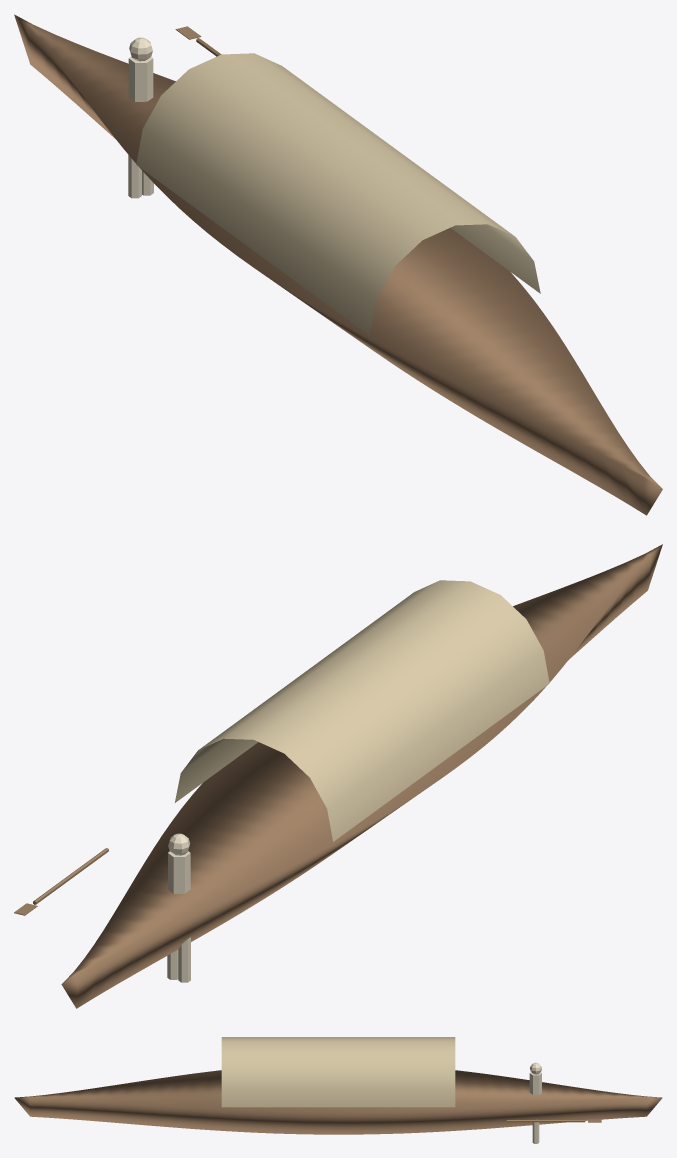
The model's file is hodi-boatman.glb.
3 views of the same model, one above another, from view 1: azimuth 30°, elevation 25°; view 2: azimuth 150°, elevation 25°; view 3: azimuth 270°, elevation 25° (orthographic). The views are drawn at different scales.
Visible parts, largest first — view 1: Canopy, HodiHull, Boatman; view 2: Canopy, HodiHull, Boatman; view 3: HodiHull, Canopy, Boatman, oarArm.
Part boxes in pixels (x1,y1,x2,y2): Canopy: (136,53,540,335); HodiHull: (14,14,662,515); Boatman: (128,37,153,198); Canopy: (175,580,549,841); HodiHull: (61,544,662,1008); Boatman: (167,833,190,982); HodiHull: (14,1070,662,1134); Canopy: (221,1037,455,1107); Boatman: (529,1062,541,1143); oarArm: (507,1119,601,1122).
Bounding box in the file's own units: 1.8 × 1.61 × 9.5.
